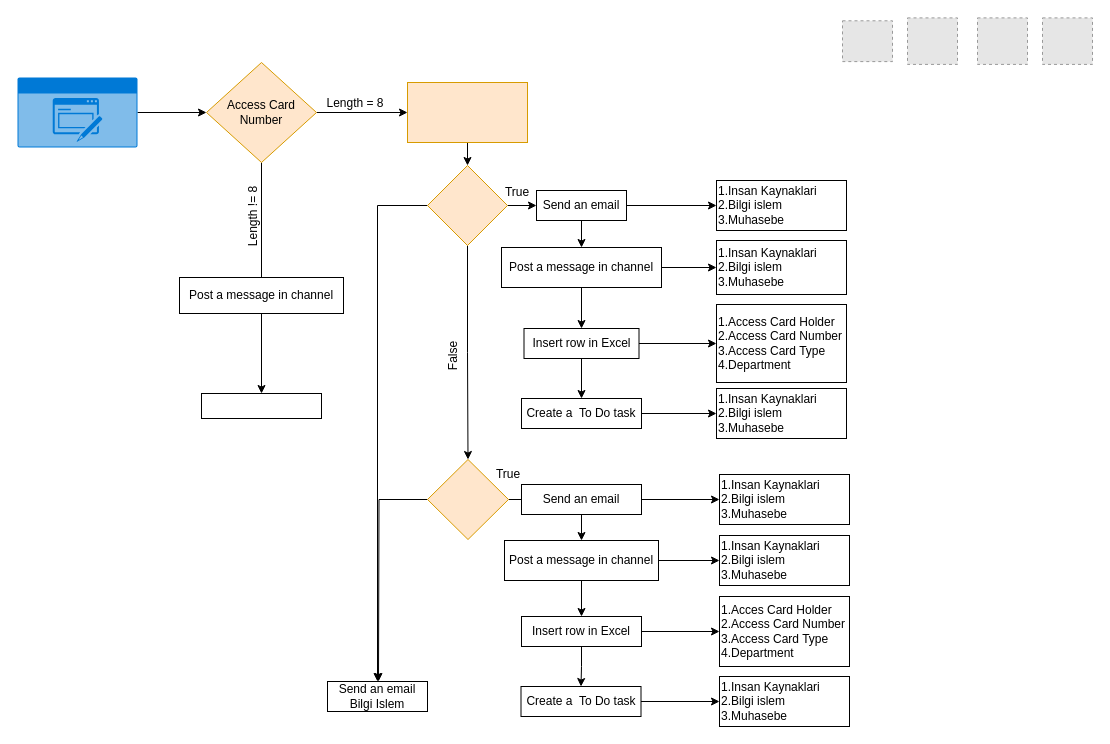
Image size: 1110x744. Some labels were removed from this diagram. Grey dashed boxes stand in for pictures. Here are the shapes that lost their labels. From the top down, the box of each, then its label:
(17, 77, 137, 147): Form
(406, 82, 528, 142): Access Card Type
(426, 164, 508, 246): New
(200, 392, 322, 418): Insan Kaynaklari
(426, 458, 508, 540): Lost
